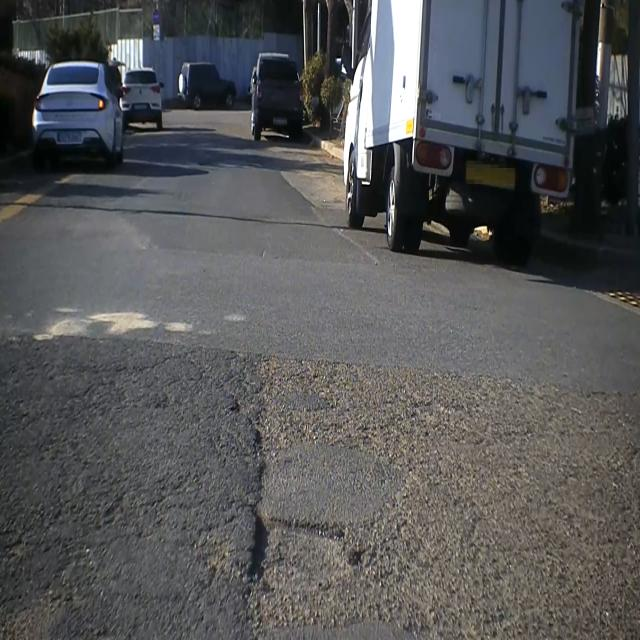Pothole: (231, 401, 362, 593)
